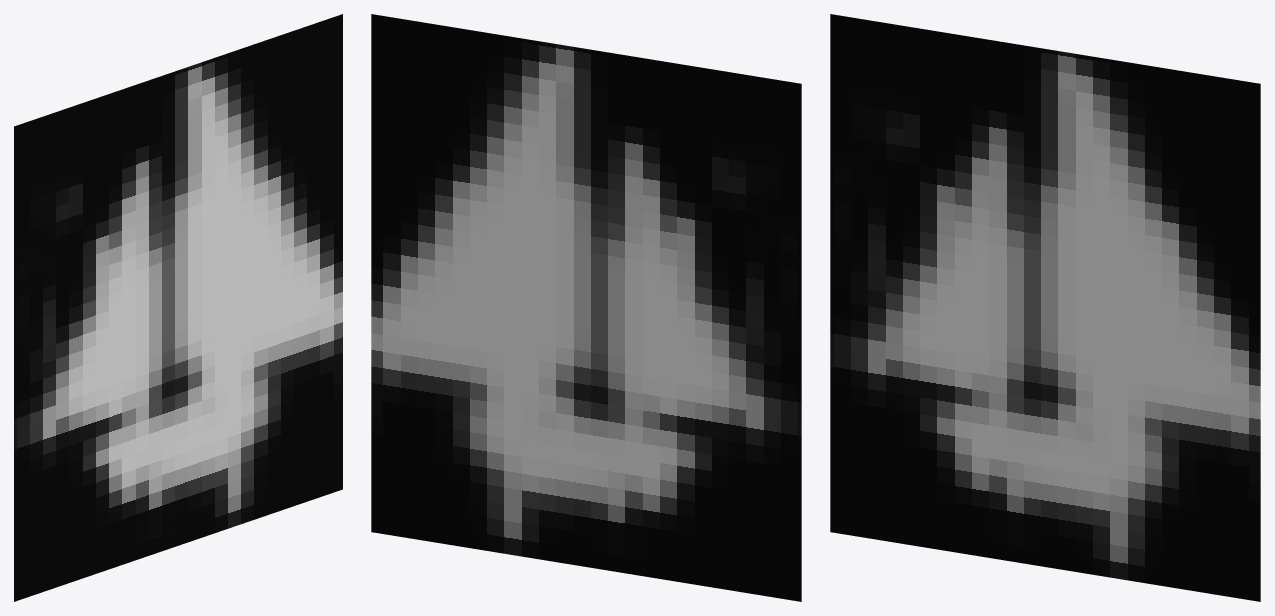
Rendered from pollution02.dae.
3 renders of one model, left to right at view 1: azimuth 30°, elevation 25°; view 2: azimuth 150°, elevation 25°; view 3: azimuth 330°, elevation 25°, orthographic. The views are drawn at different scales.
Visible parts, largest first — view 1: m0; view 2: m0; view 3: m0.
Part boxes in pixels (x1,y1,x2,y2): m0: [14, 14, 342, 601]; m0: [371, 14, 801, 601]; m0: [830, 14, 1260, 601].
Size of the model in its own units: 797 by 1000 by 126.
1 material, 1 textured.
